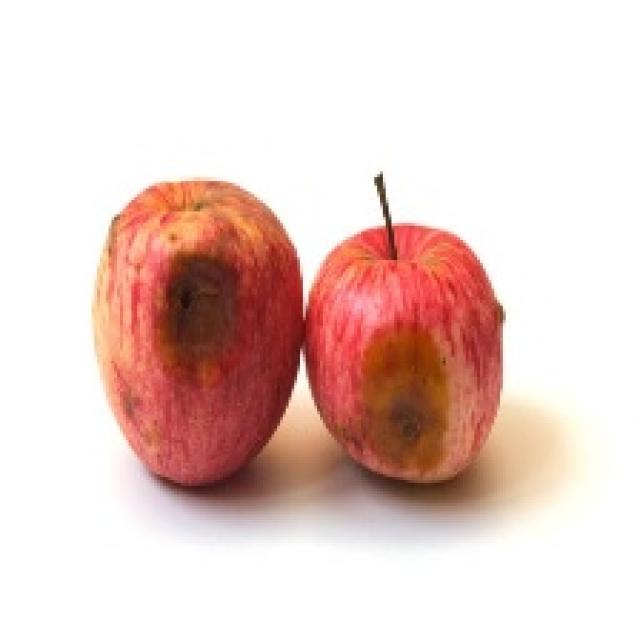rotten_apple: (94, 180, 301, 482), (306, 228, 503, 478)
